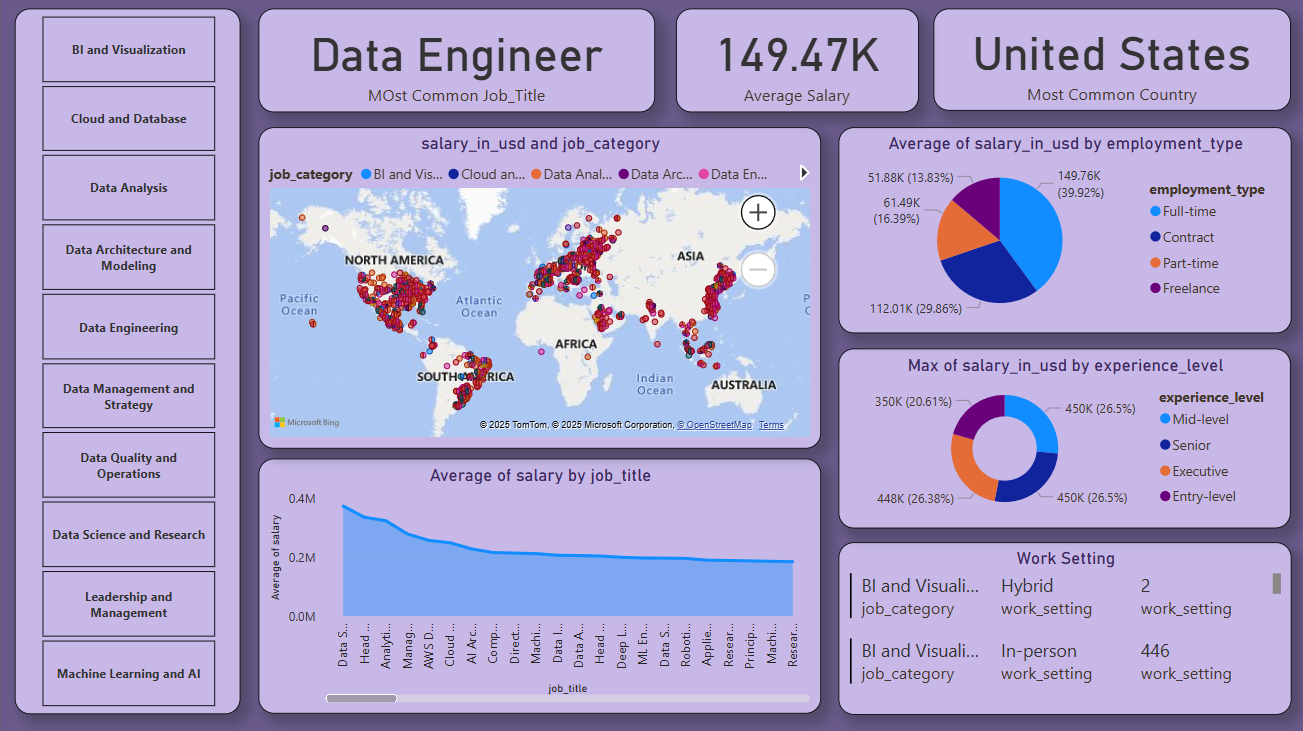

Layout of this report page (visuals, bound fields, positions):
{"tool":"powerbi","page":{"name":"Page 1","canvas":[1280,720],"ordinal":0},"visuals":[{"type":"slicer","fields":{"Values":["jobs_in_data_2024.job_category"]},"box":[13.7,12.3,220.9,690.2],"z":0},{"type":"areaChart","fields":{"Category":["jobs_in_data_2024.job_title"],"Y":["Avg(jobs_in_data_2024.salary)"]},"box":[252.5,452.8,550.3,249.7],"z":1000},{"type":"multiRowCard","title":"Work Setting","fields":{"Values":["jobs_in_data_2024.job_category","jobs_in_data_2024.work_setting","CountNonNull(jobs_in_data_2024.work_setting)"]},"box":[819.2,533.8,443.2,168.8],"z":2000},{"type":"donutChart","fields":{"Category":["jobs_in_data_2024.experience_level"],"Y":["Max(jobs_in_data_2024.salary_in_usd)"]},"box":[819.3,344.8,442.7,176.1],"z":3000},{"type":"pieChart","fields":{"Category":["jobs_in_data_2024.employment_type"],"Y":["Avg(jobs_in_data_2024.salary_in_usd)"]},"box":[819.2,129,443.2,201.7],"z":4000},{"type":"card","fields":{"Values":["Min(jobs_in_data_2024.employee_residence)"]},"box":[912,12,349.9,100],"z":5000},{"type":"card","fields":{"Values":["Max(jobs_in_data_2024.job_title)"]},"box":[252.5,12.3,388.3,101.5],"z":6000},{"type":"map","fields":{"Category":["jobs_in_data_2024.salary_in_usd"],"Series":["jobs_in_data_2024.job_category"]},"box":[252,129,550.3,314.2],"z":7000},{"type":"card","fields":{"Values":["jobs_in_data_2024.Measure"]},"box":[660,12.3,237.4,101.5],"z":8000}]}

Visuals, with their boxes in screenshot pixels (x1, y1, x2, y2), scaled from the page's 1280x720 canvas onto the 1303x731 screenshot:
slicer - jobs_in_data_2024.job_category: (left=14, top=12, right=239, bottom=713)
areaChart - jobs_in_data_2024.job_title x Avg(jobs_in_data_2024.salary): (left=257, top=460, right=817, bottom=713)
"Work Setting" multiRowCard: (left=834, top=542, right=1285, bottom=713)
donutChart - jobs_in_data_2024.experience_level x Max(jobs_in_data_2024.salary_in_usd): (left=834, top=350, right=1285, bottom=529)
pieChart - jobs_in_data_2024.employment_type x Avg(jobs_in_data_2024.salary_in_usd): (left=834, top=131, right=1285, bottom=336)
card - Min(jobs_in_data_2024.employee_residence): (left=928, top=12, right=1285, bottom=114)
card - Max(jobs_in_data_2024.job_title): (left=257, top=12, right=652, bottom=116)
map - jobs_in_data_2024.salary_in_usd x jobs_in_data_2024.job_category: (left=257, top=131, right=817, bottom=450)
card - jobs_in_data_2024.Measure: (left=672, top=12, right=914, bottom=116)
